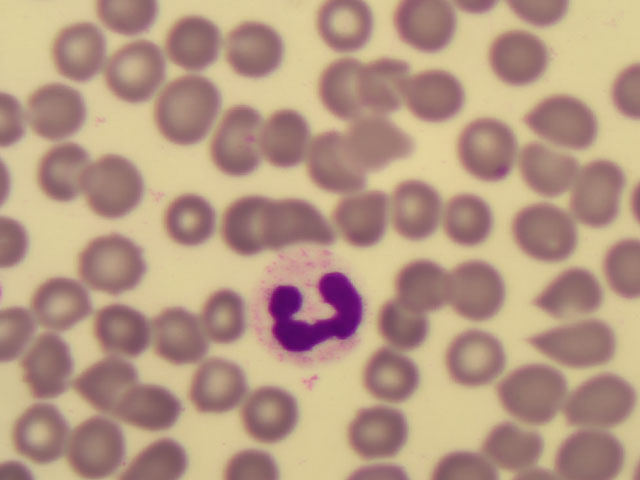RBC: (106, 36, 171, 102), (46, 20, 111, 86), (159, 10, 224, 76), (222, 15, 287, 81), (161, 74, 226, 140), (25, 76, 90, 142), (31, 141, 96, 207), (85, 153, 150, 219), (157, 185, 222, 251), (78, 226, 143, 292), (36, 264, 101, 330), (19, 330, 84, 396), (73, 352, 138, 418), (112, 369, 177, 435), (87, 294, 152, 360), (156, 303, 221, 369), (196, 284, 261, 350), (186, 350, 251, 416), (231, 379, 296, 445), (127, 414, 192, 480), (69, 414, 134, 480), (11, 395, 76, 461), (349, 402, 414, 468), (355, 344, 420, 410), (377, 296, 442, 362), (393, 252, 458, 318), (428, 256, 493, 322), (447, 329, 512, 395), (498, 357, 563, 423), (575, 374, 640, 440), (548, 414, 613, 480), (478, 414, 543, 480), (532, 313, 597, 379), (542, 264, 607, 330), (515, 205, 580, 271), (565, 157, 630, 223), (520, 139, 585, 205), (534, 88, 599, 154), (456, 113, 521, 179), (406, 65, 471, 131), (484, 29, 549, 95), (395, 1, 460, 67), (317, 51, 382, 117), (356, 52, 421, 118), (348, 113, 413, 179), (317, 130, 382, 196), (340, 189, 405, 255), (387, 175, 452, 241), (444, 191, 509, 257), (271, 190, 336, 256), (218, 189, 283, 255), (258, 105, 323, 171), (208, 108, 273, 174), (312, 1, 377, 66)
WBC: (249, 244, 361, 362)
